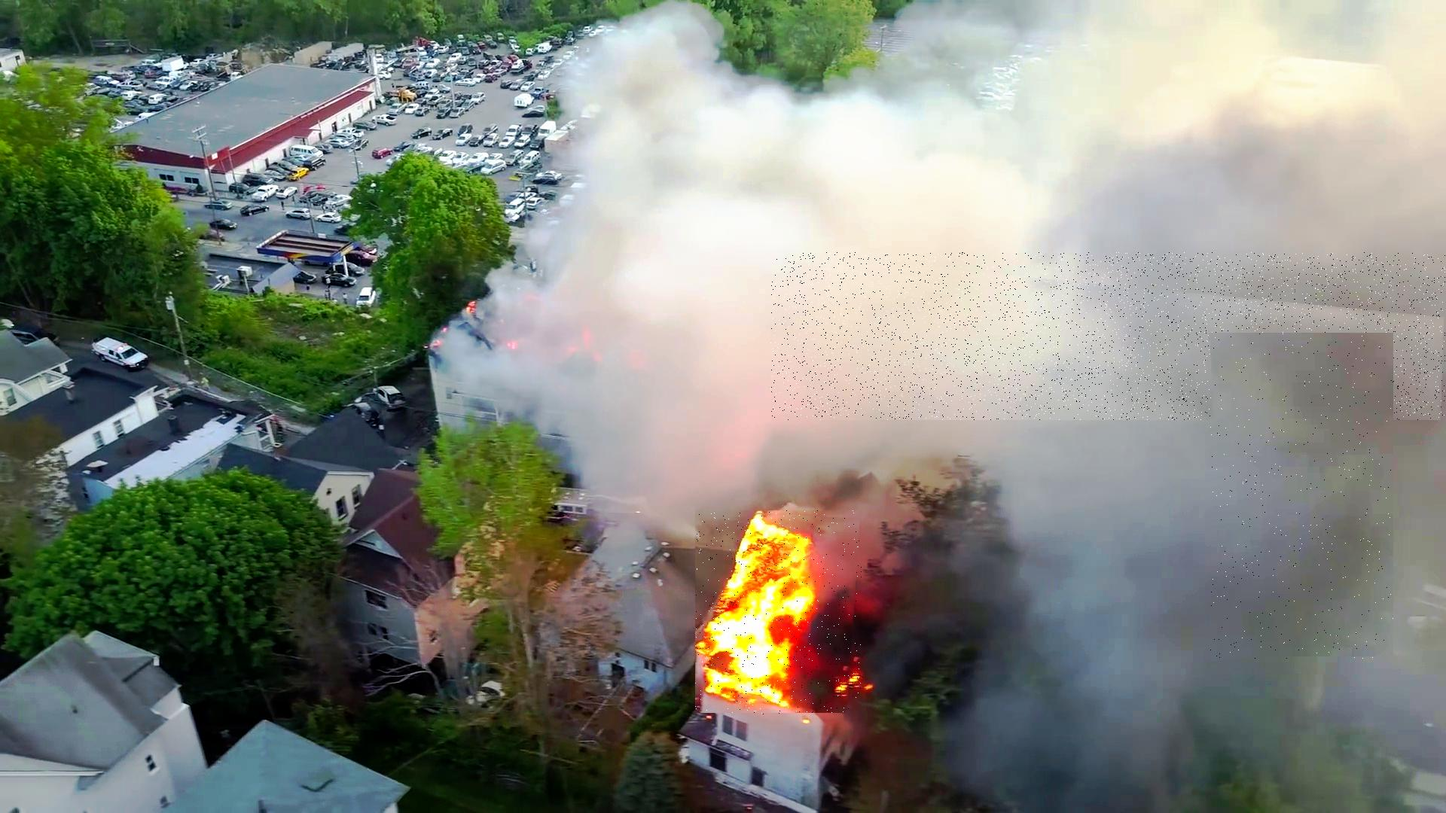fire: (696, 511, 862, 715)
smoke: (771, 253, 1446, 420), (1210, 333, 1394, 659)
